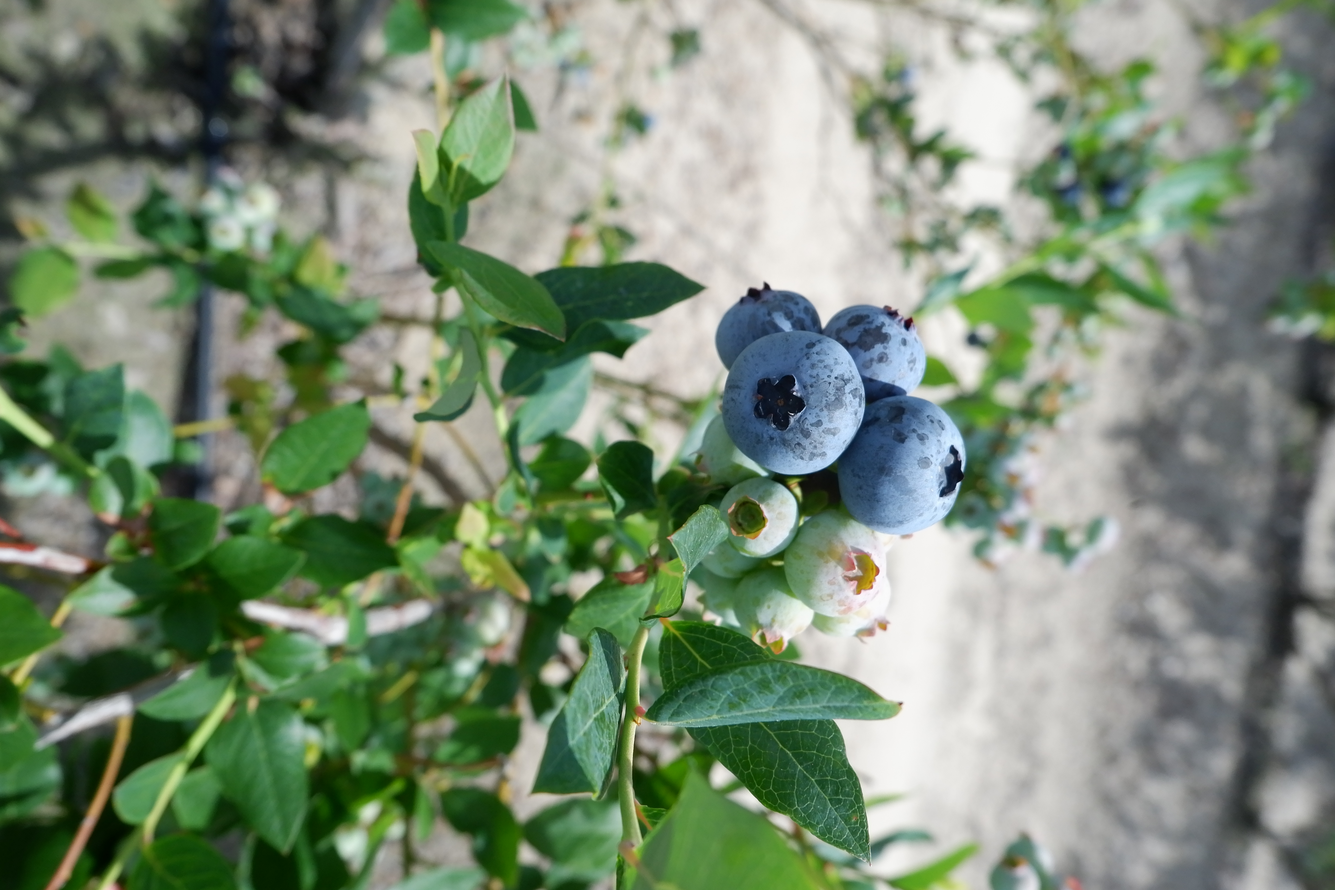Immature: (787, 510, 883, 613), (734, 570, 813, 654), (723, 481, 797, 556), (812, 581, 890, 636), (701, 415, 760, 482), (699, 539, 768, 581), (701, 570, 744, 627)
Mature: (726, 332, 862, 470), (839, 398, 966, 531), (825, 307, 924, 401), (720, 288, 822, 369)
